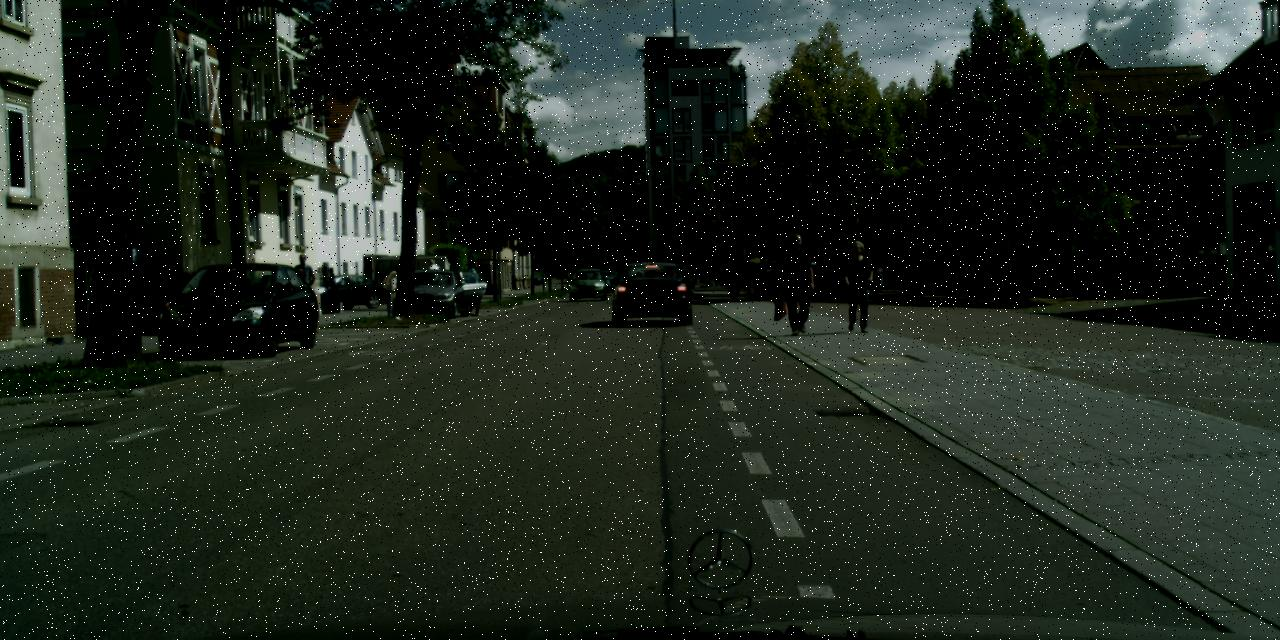ped: (776, 232, 818, 334), (840, 240, 876, 329), (288, 254, 318, 324), (462, 261, 483, 313), (384, 265, 404, 315), (424, 258, 442, 302), (725, 258, 739, 293), (872, 262, 884, 292), (712, 267, 726, 286)
